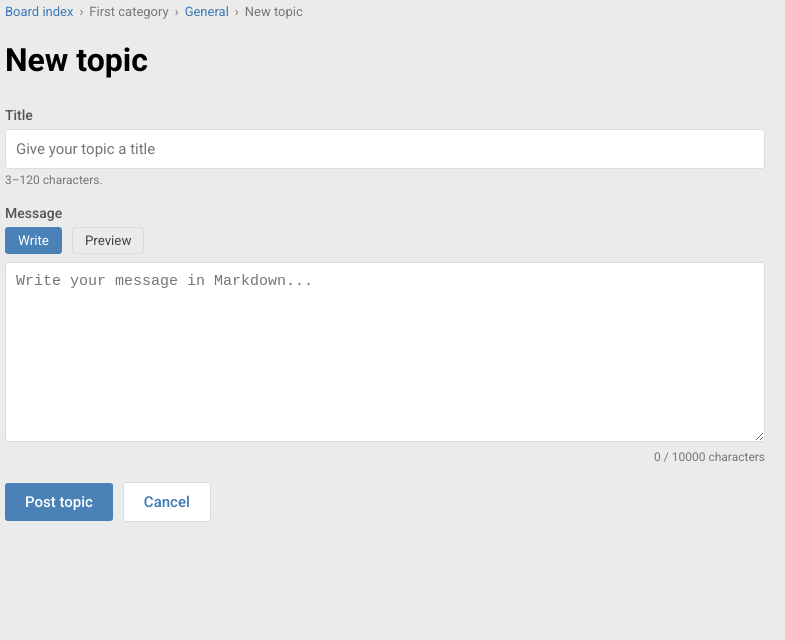
maps API field errors onto the field
Type "My topic" into the field labelled "Title" at (385, 149), box [5,129,765,169]
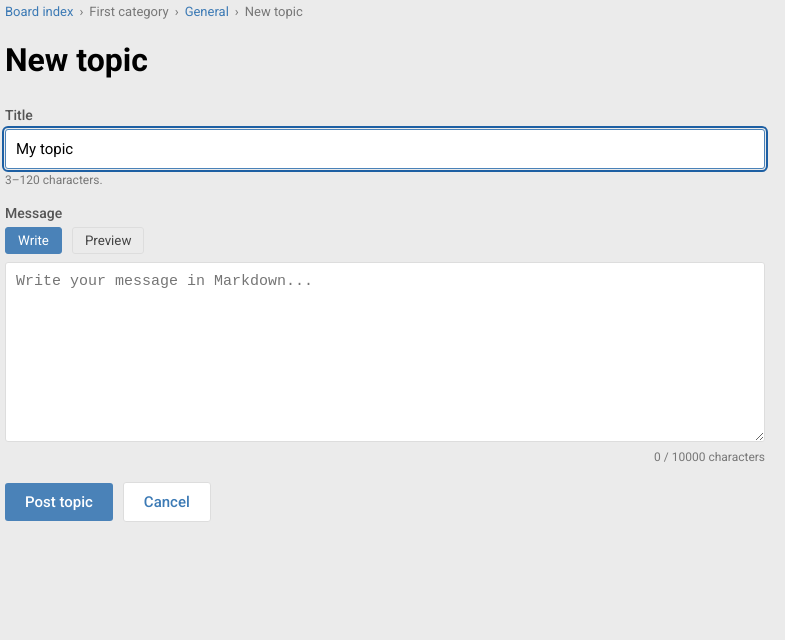
Type "Body text" into the text box labelled "Message" at (385, 352), box [5,262,765,442]
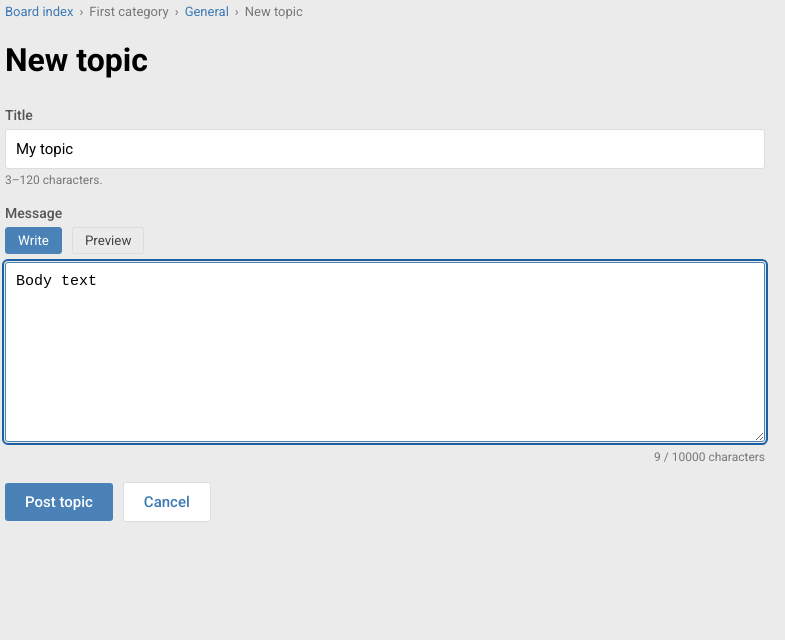
Click the button "Post topic" at (59, 502), box [5,483,113,521]
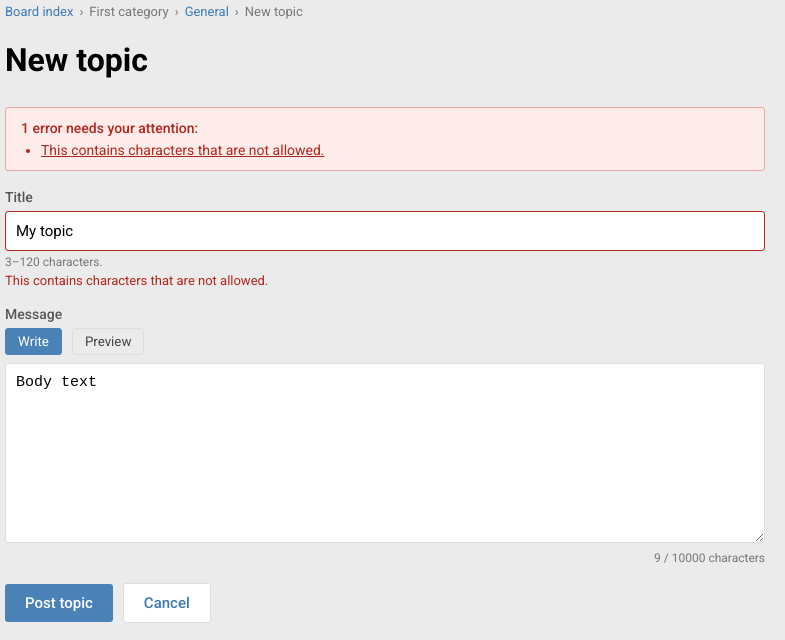
Check: the link "This contains characters that are not allowed." is shown, box [41,142,325,158]
